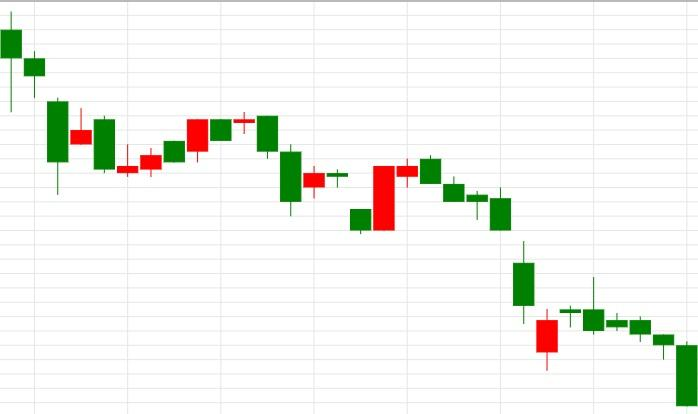bearish_engulfing_fall: (349, 155, 442, 234)
